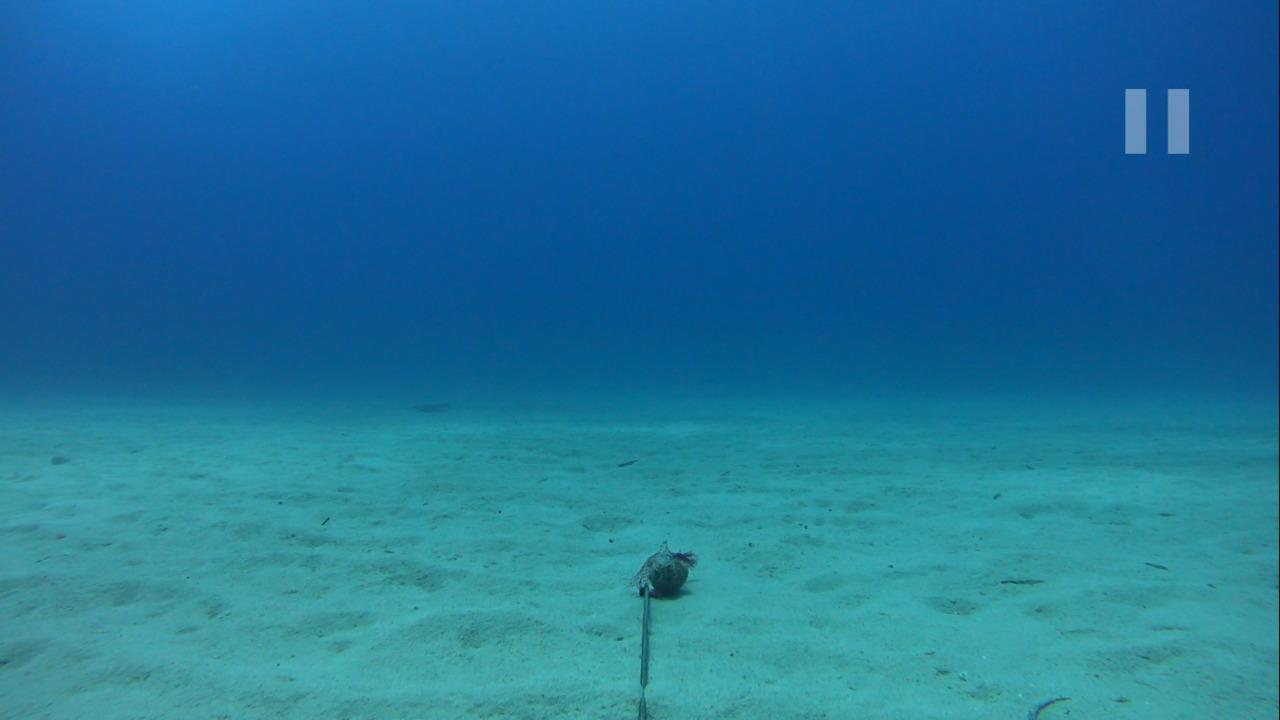myliobatis: (394, 397, 465, 424)
